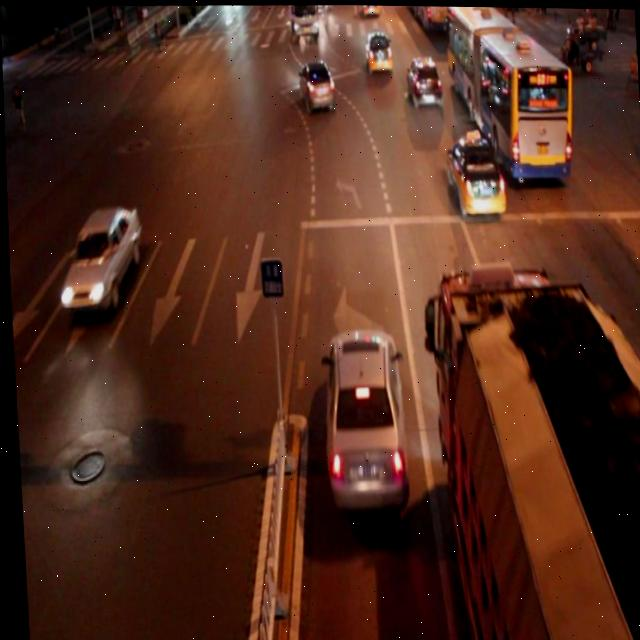bus: (432, 267, 640, 640)
car: (316, 327, 405, 511), (54, 203, 141, 316), (443, 131, 504, 217), (297, 58, 335, 114), (404, 55, 441, 107)
van: (444, 5, 571, 178)
